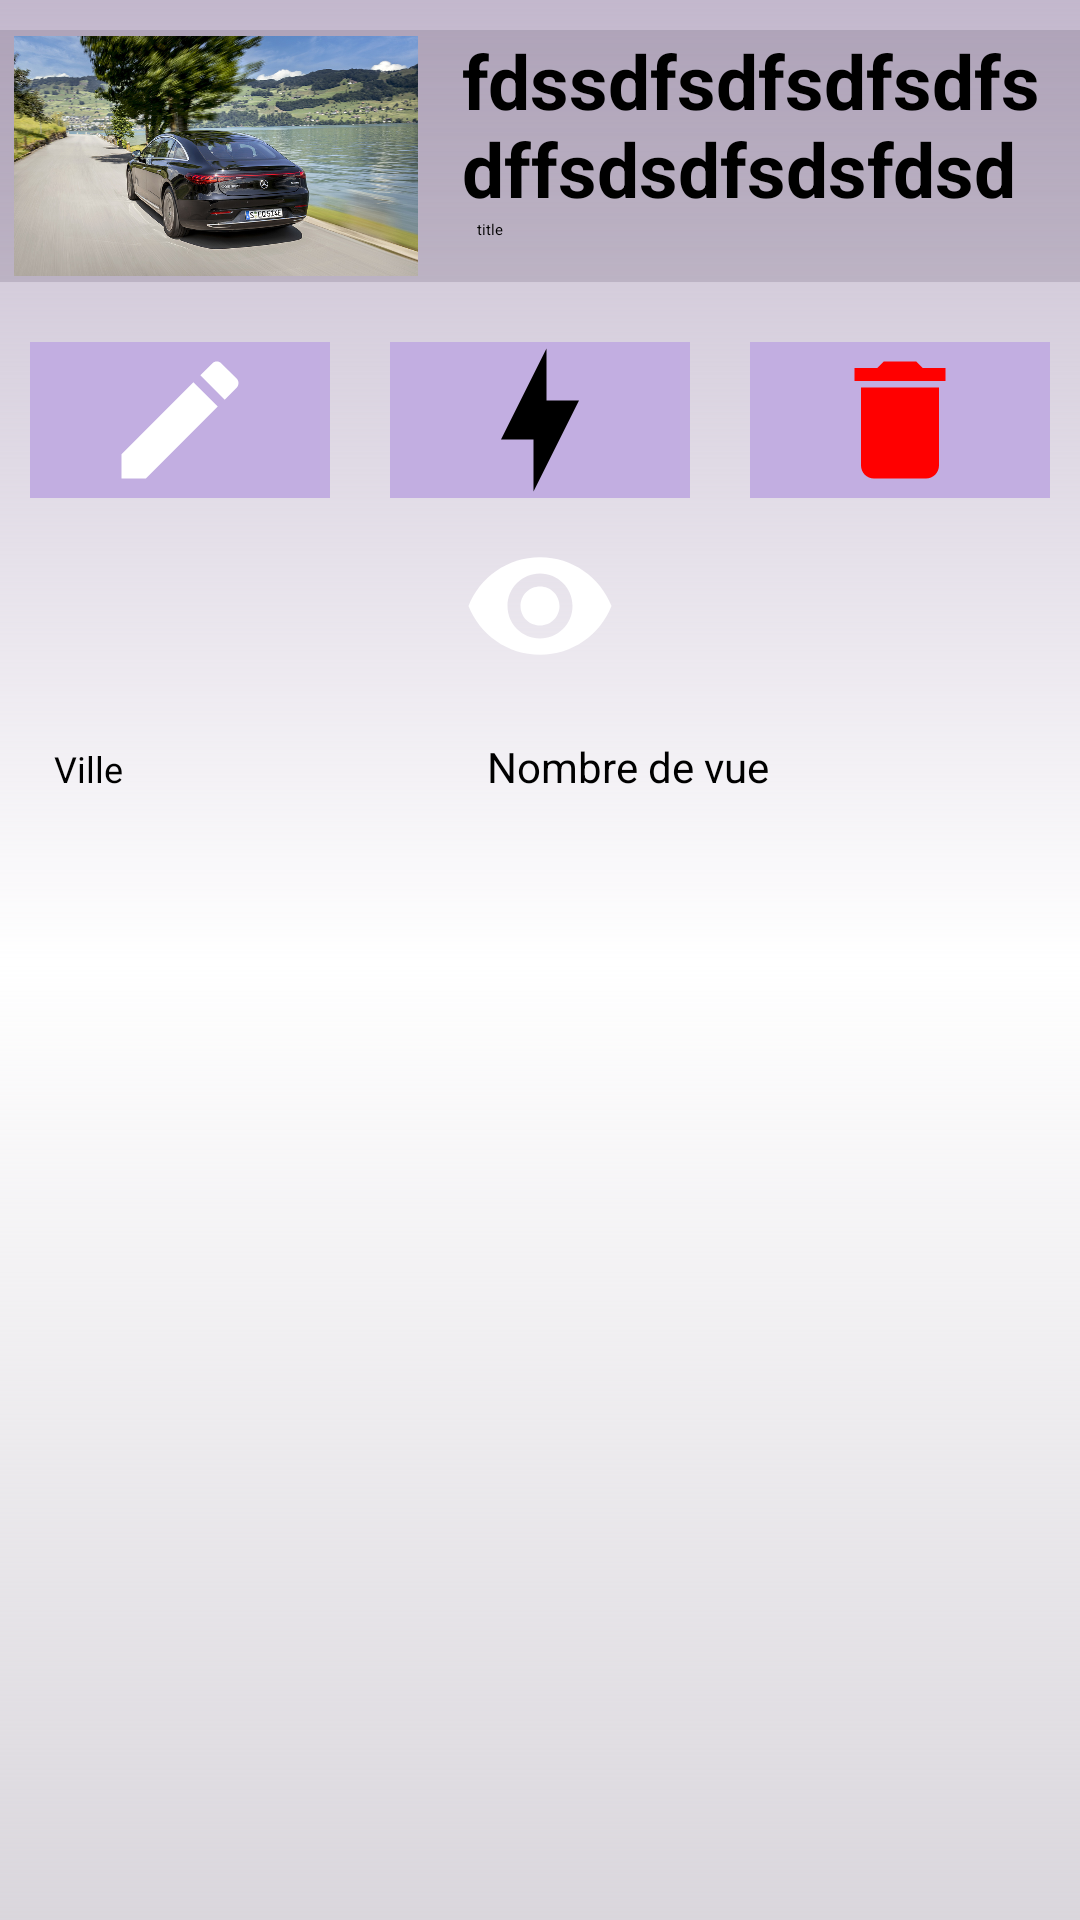

Named icons in this screenshot (1080x1920) and their bounding boxes, (left=x1, top=y1, right=x2, bottom=y2):
delete: (left=854, top=361, right=946, bottom=479)
edit: (left=121, top=361, right=239, bottom=479)
lightning bolt: (left=501, top=349, right=579, bottom=491)
